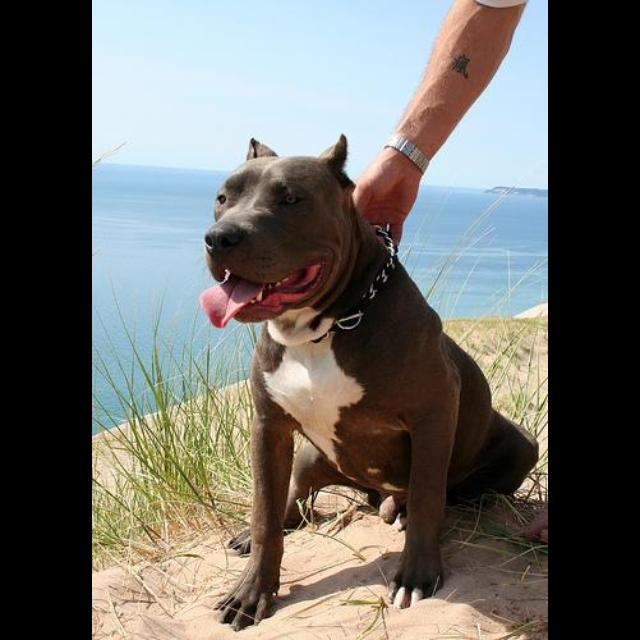amstaff: (202, 133, 541, 632)
